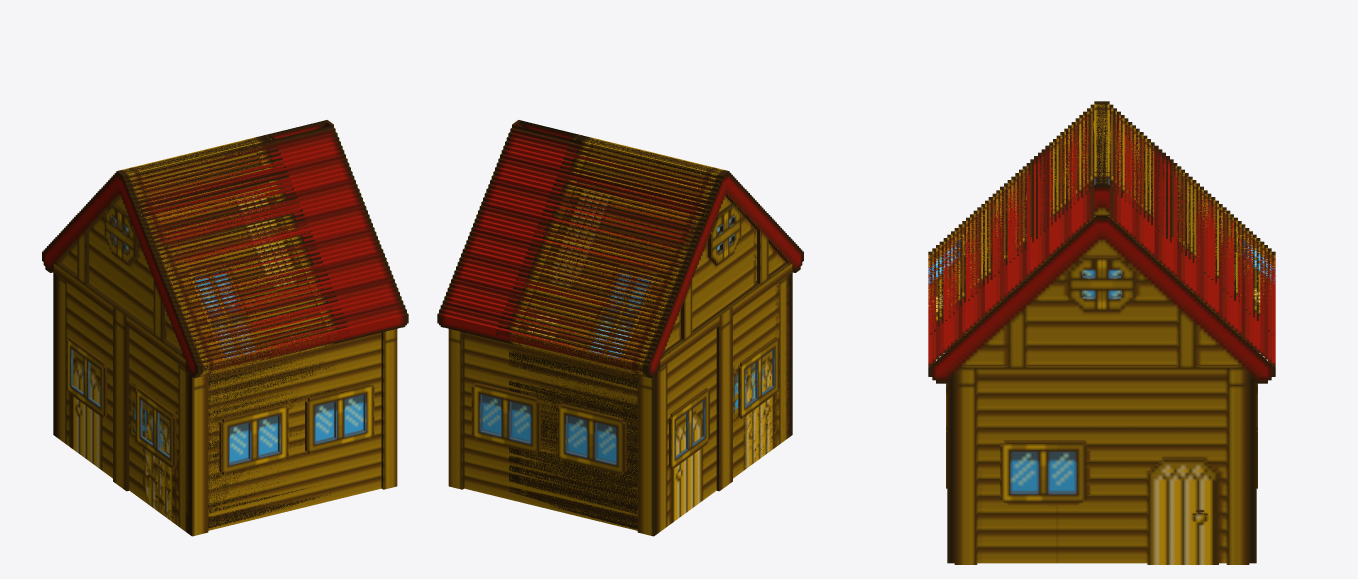
The model's file is Casa.fbx.
3 views of the same model, side by side, from view 1: azimuth 30°, elevation 25°; view 2: azimuth 150°, elevation 25°; view 3: azimuth 270°, elevation 25° (orthographic). The views are drawn at different scales.
Parts seen in each view (by area): view 1: casa_sola_128, teulada, parets, fachada, casa_sola_128.001, finestra.005, finestra.004, finestra.002, finestra.003, casa_sola_128.002; view 2: casa_sola_128, teulada, parets, fachada, casa_sola_128.001, finestra.005, finestra.004, finestra.002, finestra.003, casa_sola_128.002; view 3: fachada, teulada, casa_sola_128, finestra.001, parets.
Part boxes in pixels (x1=…): casa_sola_128: x1=55, y1=134, x2=348, y2=534; teulada: x1=127, y1=120, x2=405, y2=375; parets: x1=53, y1=272, x2=397, y2=536; fachada: x1=42, y1=120, x2=408, y2=491; casa_sola_128.001: x1=55, y1=197, x2=195, y2=533; finestra.005: x1=219, y1=403, x2=288, y2=474; finestra.004: x1=305, y1=382, x2=374, y2=453; finestra.002: x1=135, y1=387, x2=176, y2=469; finestra.003: x1=66, y1=337, x2=107, y2=418; casa_sola_128.002: x1=129, y1=382, x2=168, y2=462; casa_sola_128: x1=496, y1=134, x2=790, y2=532; teulada: x1=440, y1=120, x2=718, y2=376; parets: x1=448, y1=272, x2=792, y2=536; fachada: x1=437, y1=120, x2=803, y2=491; casa_sola_128.001: x1=646, y1=177, x2=789, y2=534; finestra.005: x1=557, y1=403, x2=626, y2=474; finestra.004: x1=471, y1=382, x2=540, y2=453; finestra.002: x1=738, y1=337, x2=779, y2=418; finestra.003: x1=669, y1=388, x2=709, y2=469; casa_sola_128.002: x1=733, y1=354, x2=768, y2=425; fachada: x1=928, y1=101, x2=1275, y2=564; teulada: x1=928, y1=107, x2=1275, y2=367; casa_sola_128: x1=928, y1=103, x2=1275, y2=347; finestra.001: x1=1000, y1=440, x2=1086, y2=503; parets: x1=947, y1=380, x2=1256, y2=563.
Bounding box in the file's own units: 73 × 128 × 128.
4 materials, 4 textured.
